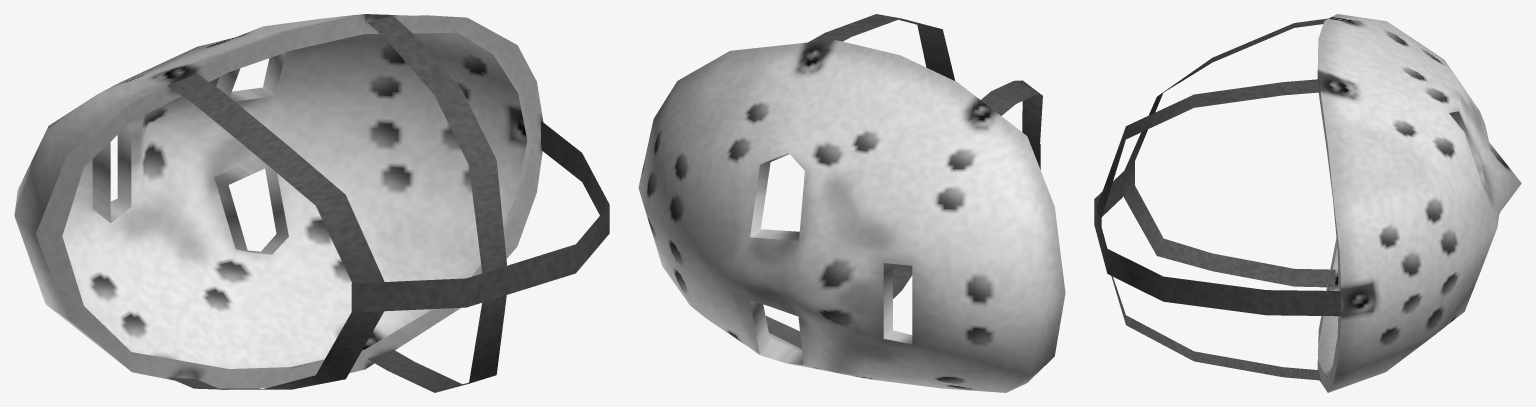
The model's file is F_HockeyMask.fbx.
The picture shows the model from 3 angles, left to right: view 1: azimuth 30°, elevation 25°; view 2: azimuth 150°, elevation 25°; view 3: azimuth 270°, elevation 25°; orthographic projection. The views are drawn at different scales.
Visible parts, largest first — view 1: F_HockeyMask; view 2: F_HockeyMask; view 3: F_HockeyMask.
Part boxes in pixels (x1,y1,x2,y2): F_HockeyMask: (14,14,609,392); F_HockeyMask: (638,14,1065,392); F_HockeyMask: (1094,14,1521,392).
Bounding box in the file's own units: 0.1639 × 0.1151 × 0.1449.
